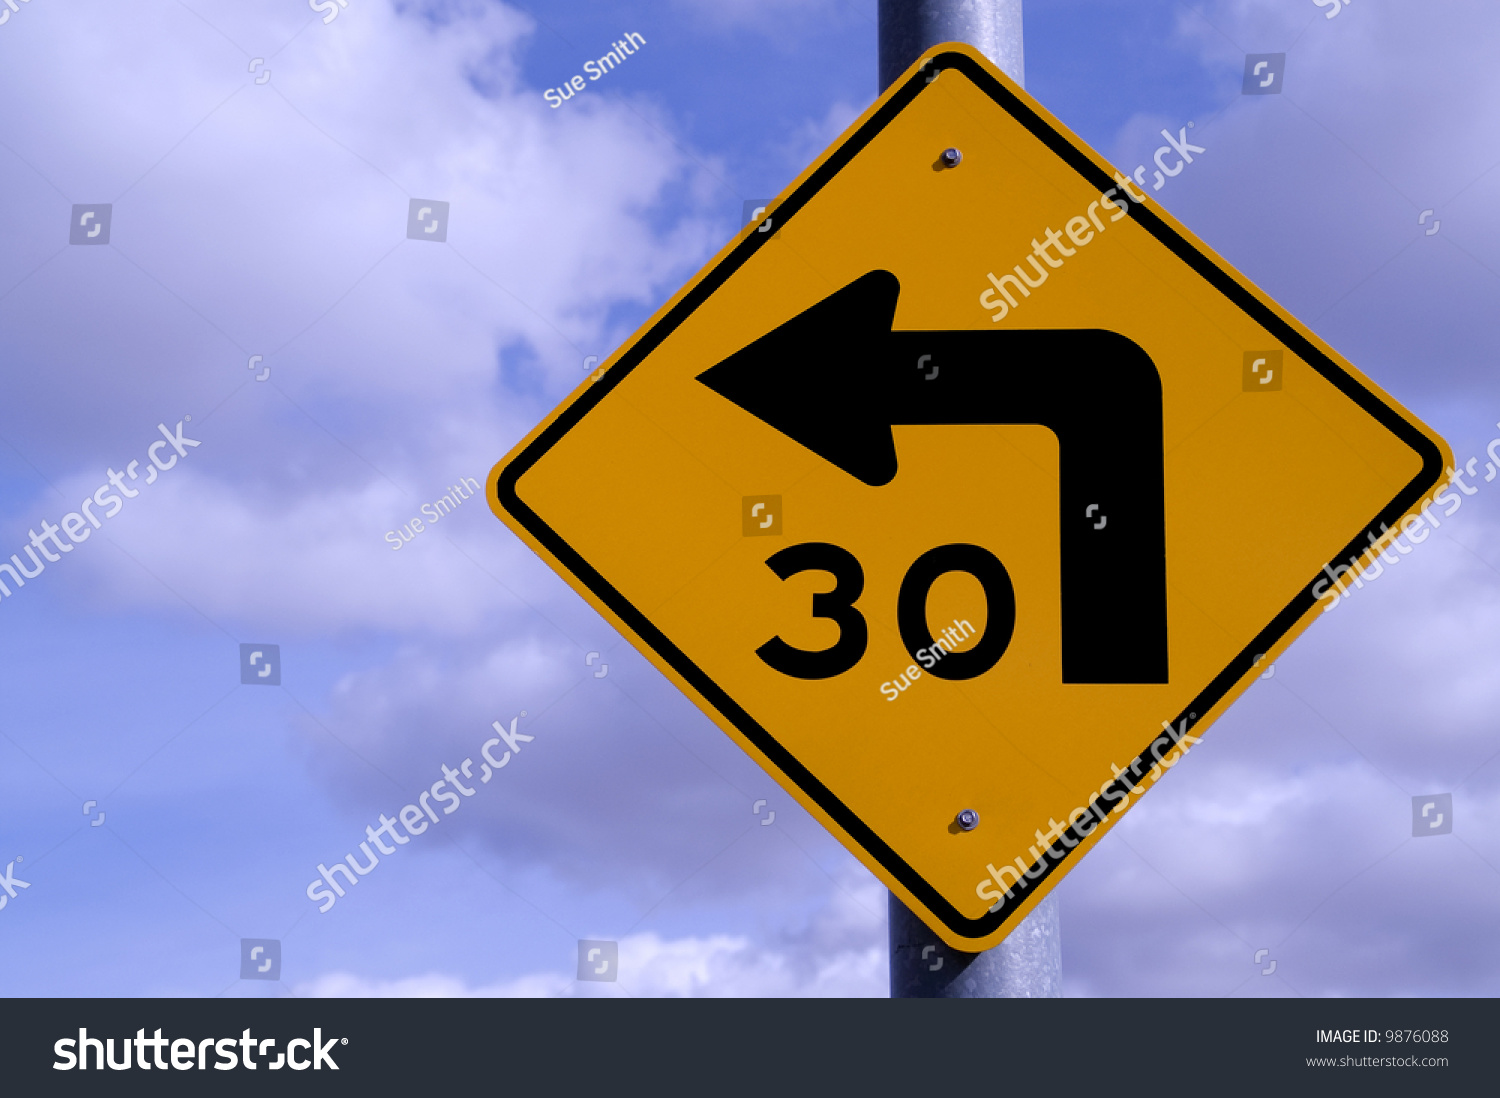left: (480, 30, 1460, 971)
